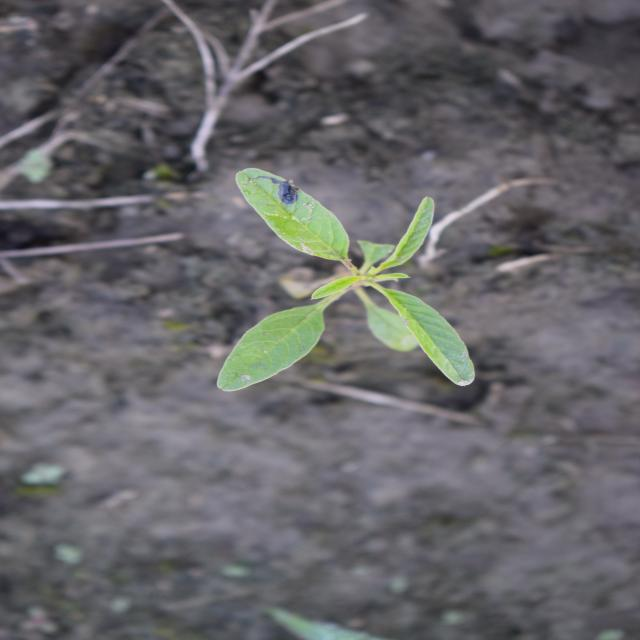Waterhemp: (214, 165, 478, 393)
